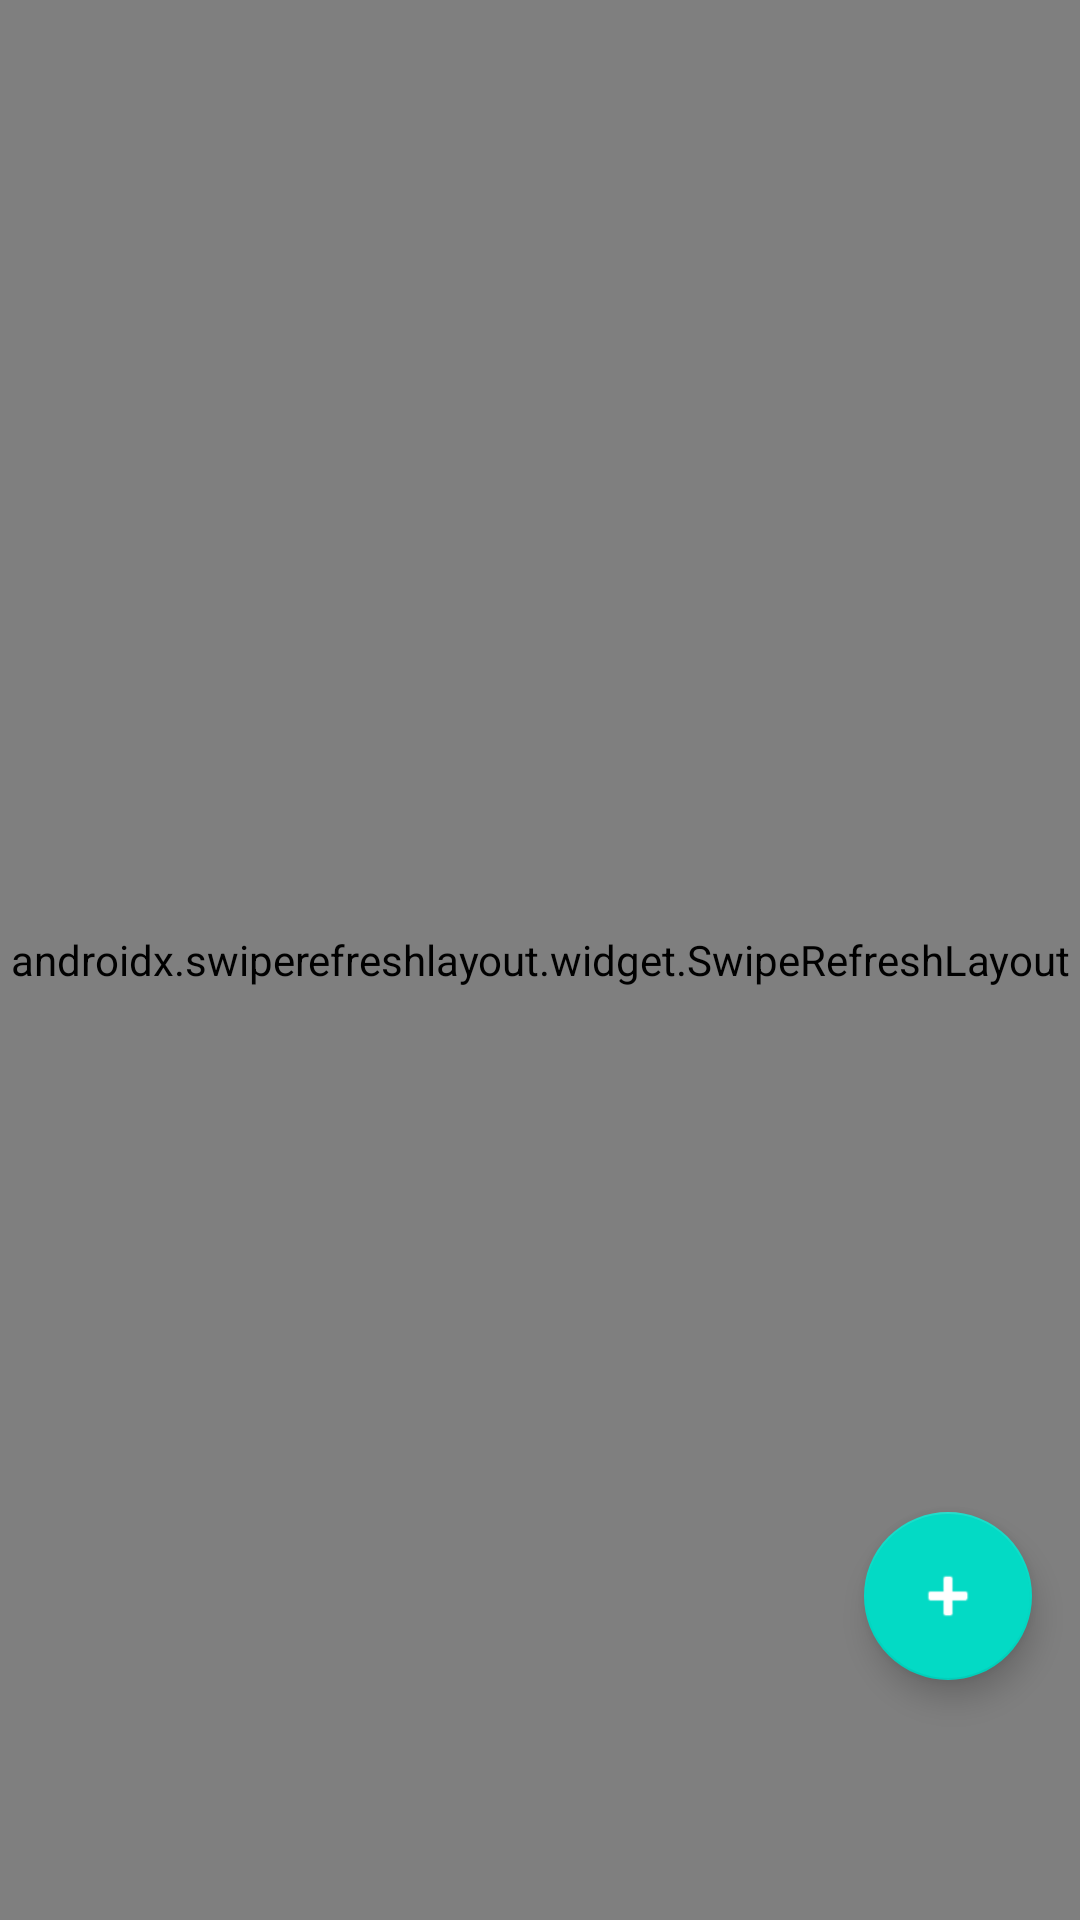

Icon click points for this 1080px×1920px phone screenshot, format (x,y):
Add New Review: (948,1596)
